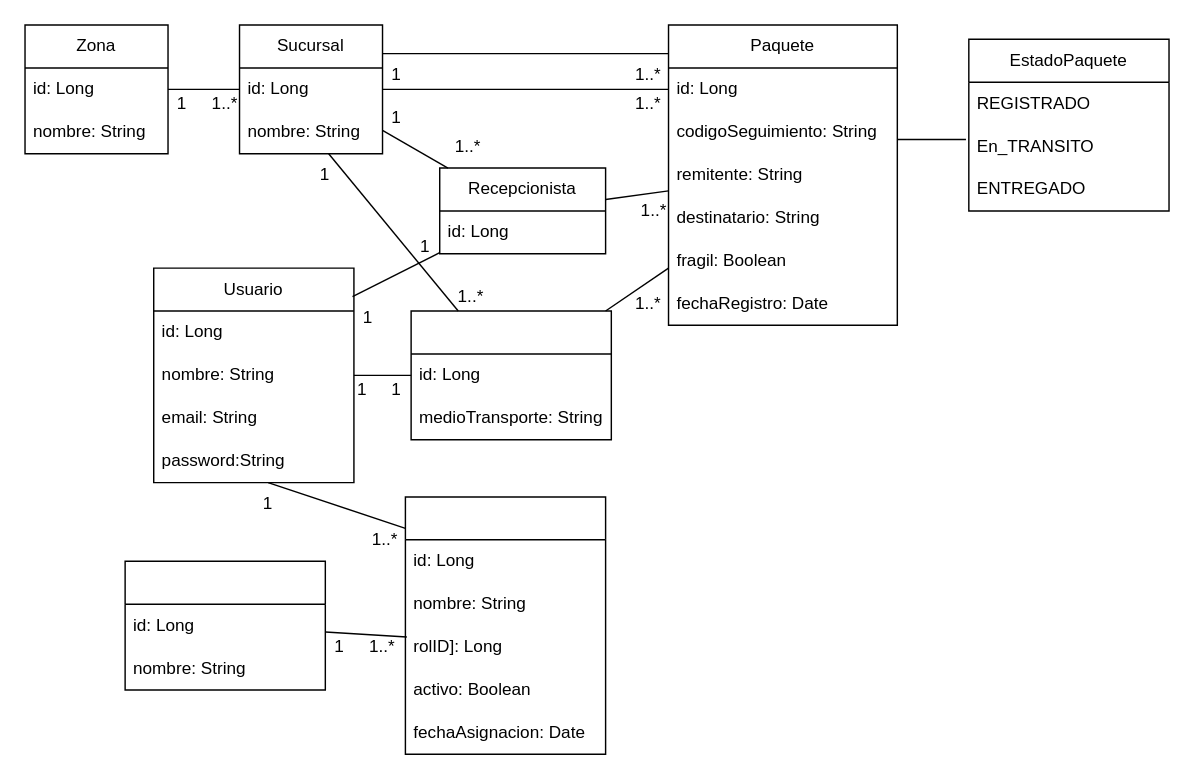
Some shapes in this 1194 by 779 pixel diagram are drawn without their labels. Each missing label, with the box of its shape:
Repartidor: (410, 310, 611, 440)
Rol: (124, 560, 325, 690)
UsuarioRol: (404, 495, 606, 754)
